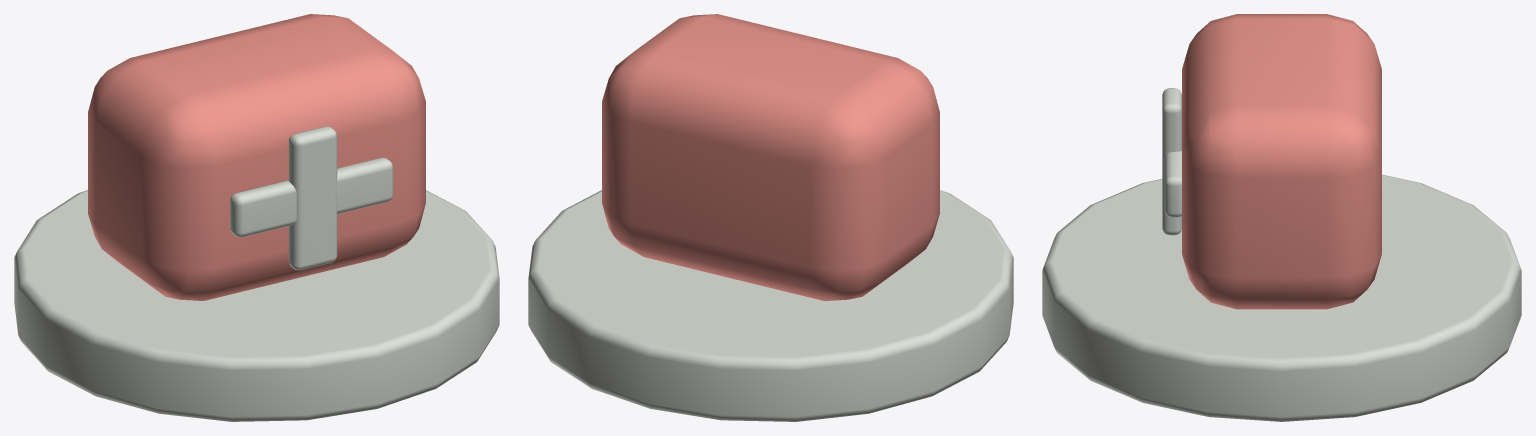
The model's file is bonus_heart.glb.
3 views of the same model, side by side, from view 1: azimuth 30°, elevation 25°; view 2: azimuth 150°, elevation 25°; view 3: azimuth 270°, elevation 25° (orthographic).
Visible parts, largest first — view 1: Bonus_rounded_plinth, Medkit_bag, Medical_cross_vertical, Medical_cross_horizontal; view 2: Medkit_bag, Bonus_rounded_plinth; view 3: Bonus_rounded_plinth, Medkit_bag, Medical_cross_vertical, Medical_cross_horizontal.
Part boxes in pixels (x1=…): Bonus_rounded_plinth: x1=14, y1=190, x2=499, y2=421; Medkit_bag: x1=88, y1=14, x2=425, y2=300; Medical_cross_vertical: x1=288, y1=126, x2=337, y2=270; Medical_cross_horizontal: x1=230, y1=157, x2=393, y2=237; Medkit_bag: x1=602, y1=14, x2=939, y2=300; Bonus_rounded_plinth: x1=528, y1=190, x2=1013, y2=421; Bonus_rounded_plinth: x1=1042, y1=174, x2=1521, y2=421; Medkit_bag: x1=1182, y1=14, x2=1381, y2=309; Medical_cross_vertical: x1=1162, y1=88, x2=1181, y2=235; Medical_cross_horizontal: x1=1164, y1=151, x2=1181, y2=217.
Bounding box in the file's own units: 0.96 × 0.58 × 0.96.
